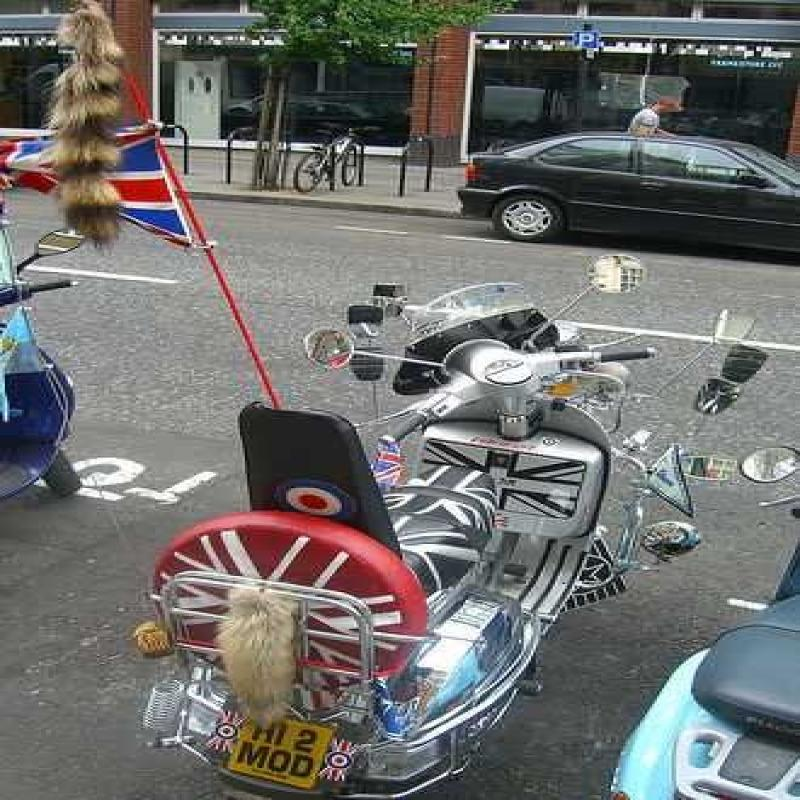bike: (206, 256, 644, 793)
